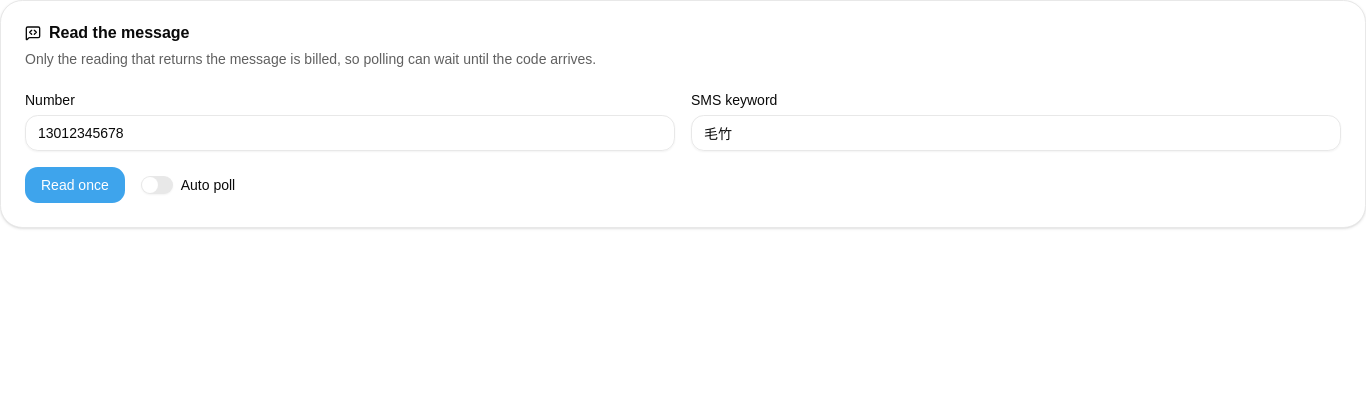
Test: reading uses the number that was taken and keeps the history
Click the button "Read once" at coordinates (75, 185), box [25,167,125,203]
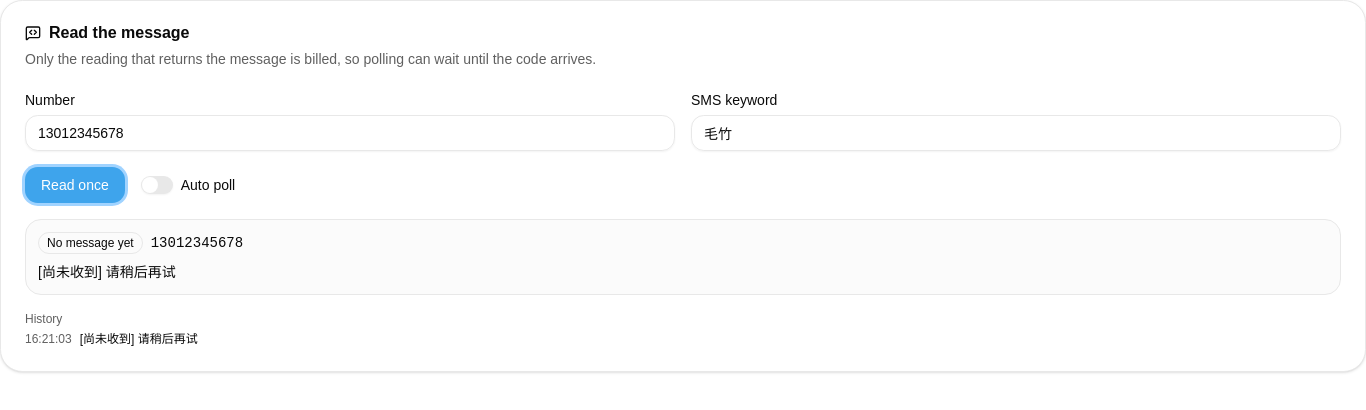
Expected: the text "No message yet" is shown, [38,232,143,254]
Click the button "Read once" at coordinates (75, 185), box [25,167,125,203]
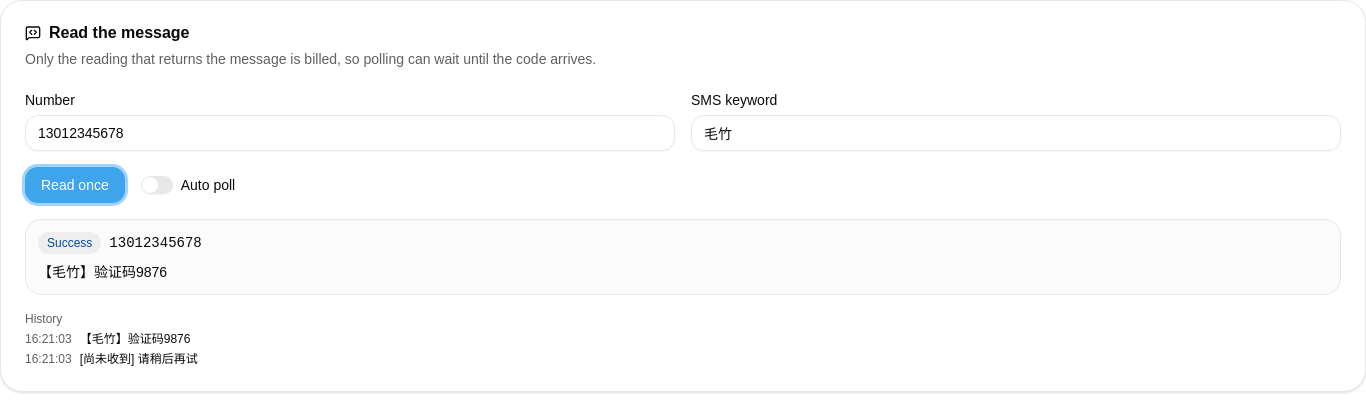
Expected: the text "[尚未收到] 请稍后再试" is shown, [80,351,198,367]
Expected: the text "【毛竹】验证码9876" below "History" is shown, [80,332,190,346]
